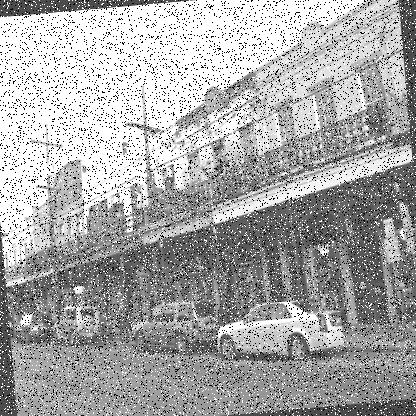Car: (214, 297, 345, 368), (130, 298, 224, 360), (12, 310, 52, 344), (8, 313, 18, 337)
